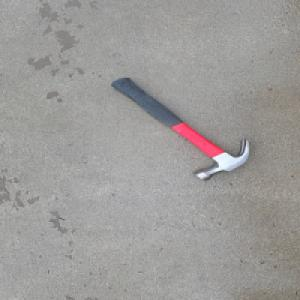Hammer: (110, 78, 252, 182)
